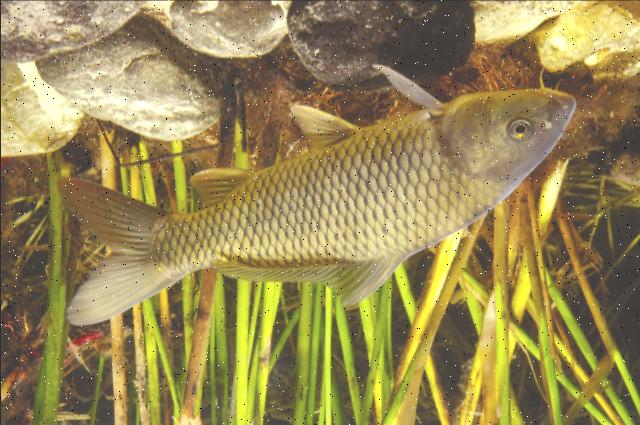Mulut: (524, 66, 588, 115)
Sirip Anal: (182, 154, 256, 214)
Sirip Dada: (368, 52, 452, 121)
Sirip Ekor: (44, 165, 162, 335)
Sirip Perut: (281, 93, 365, 159)
Sirip Punggung: (207, 246, 407, 314)
